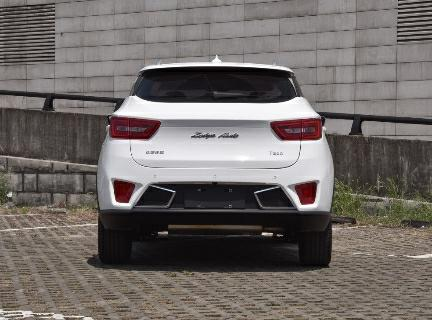众泰-T300: (91, 54, 341, 269)
